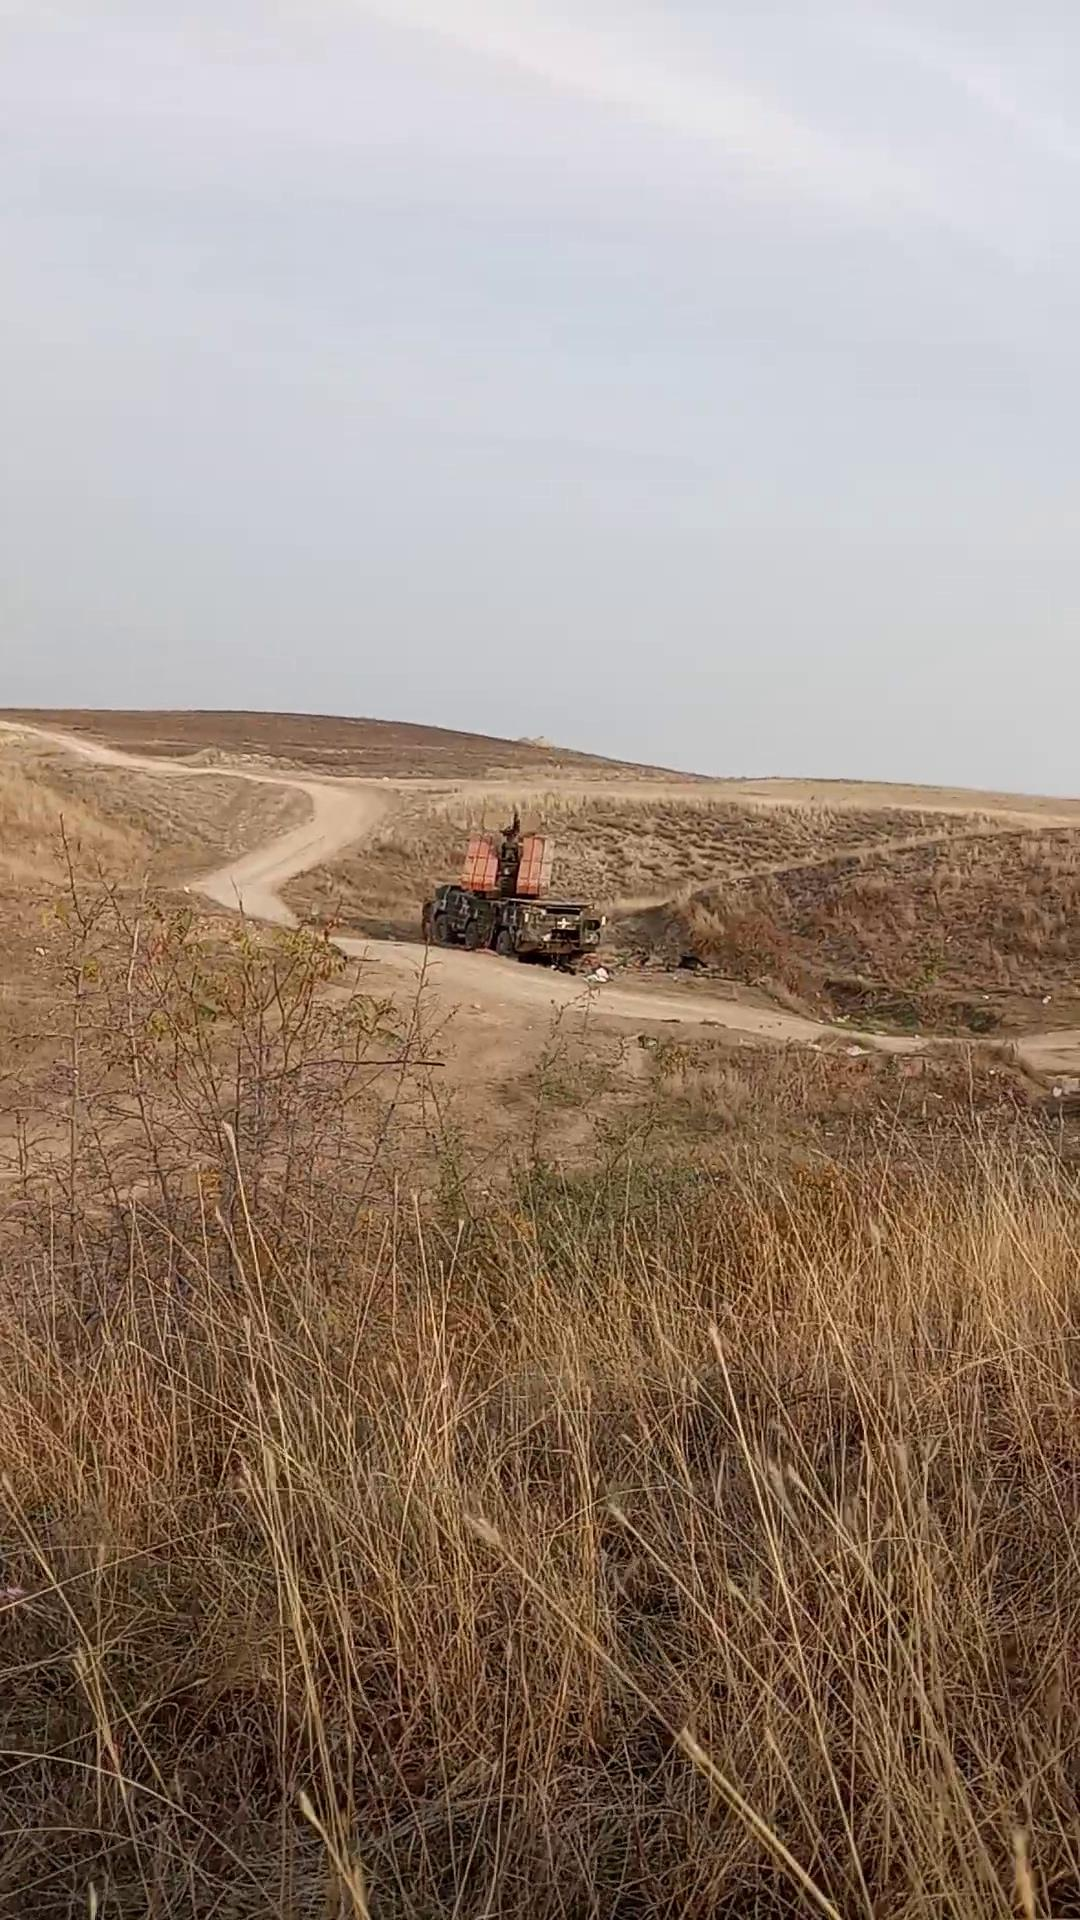MIL_SAM_TEL: (422, 818, 613, 973)
